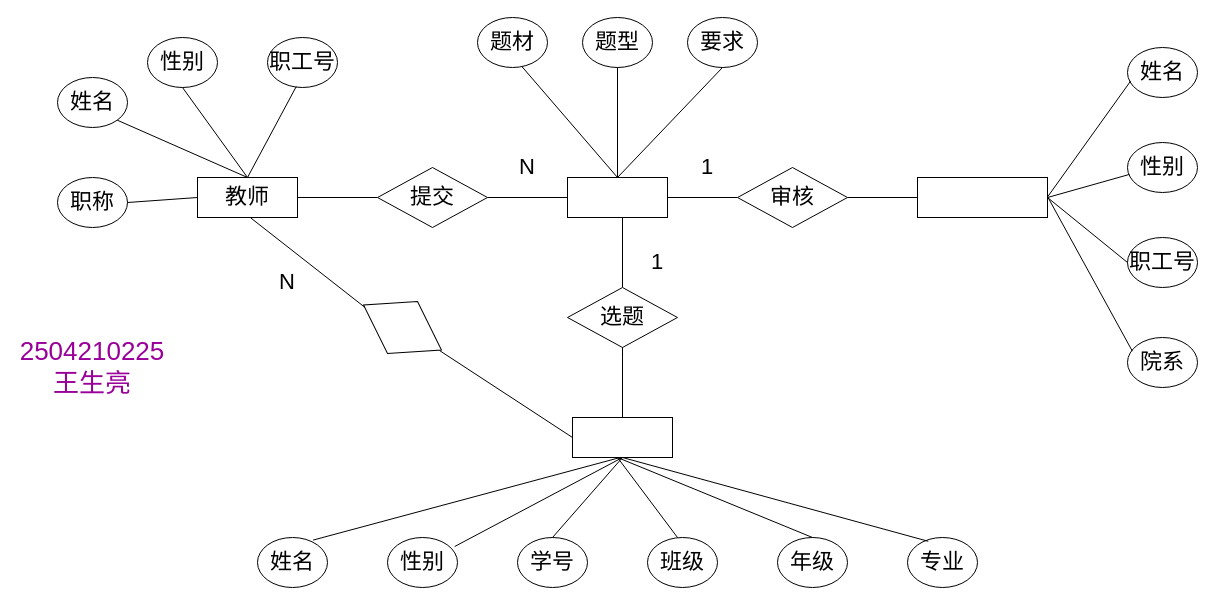
The diagram is 1215 pixels wide and 605 high, and some of its shapes have lost their labels. The box of each missing label's shape, as (x1, y1, x2, y2) in pixels:
学生: (572, 416, 672, 458)
指导: (347, 278, 457, 376)
教研室主任: (916, 176, 1048, 218)
论文: (566, 176, 668, 218)
